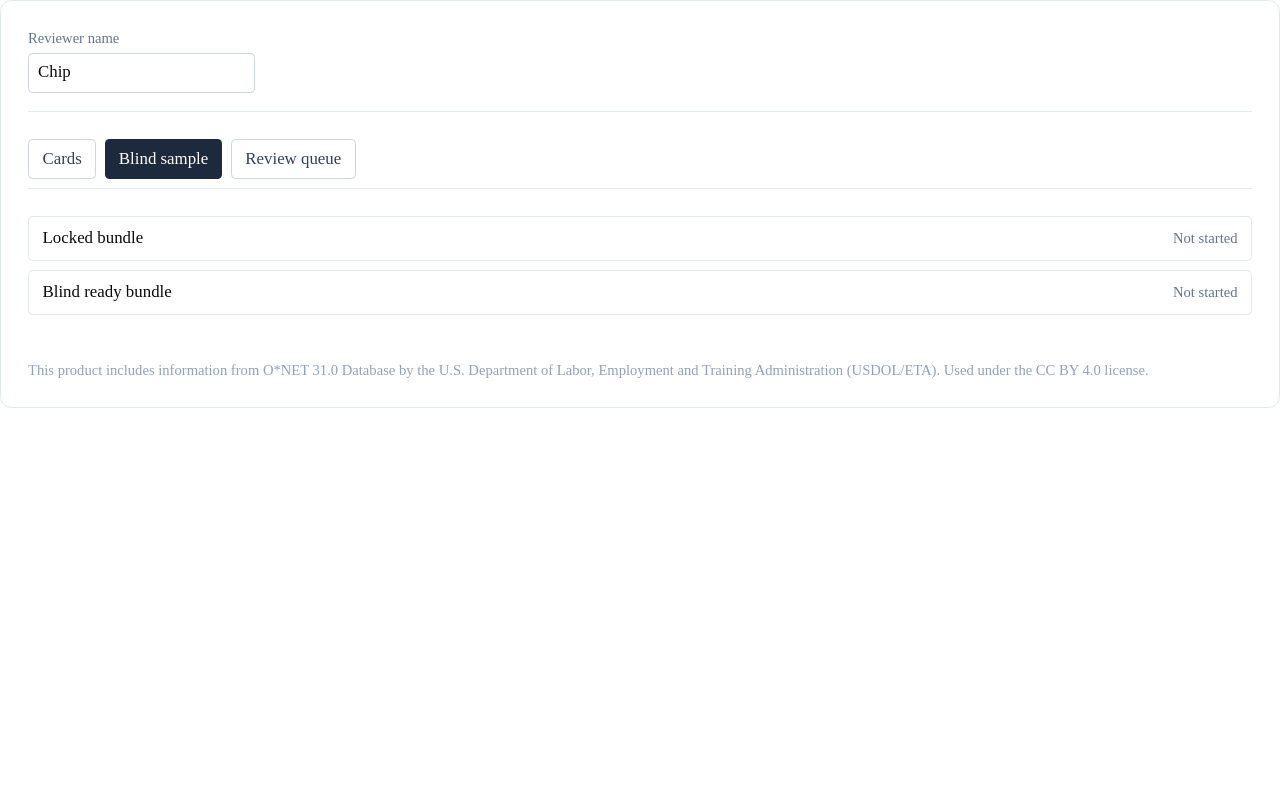
BundlesPanel › a blind-locked bundle in the queue cannot be opened and shows "Blind pick first"
The image size is (1280, 800).
Expected: the button "Locked bundle" is shown, [42,226,143,251]
Click the button "Review queue".
click(293, 159)  # box [231,139,356,179]
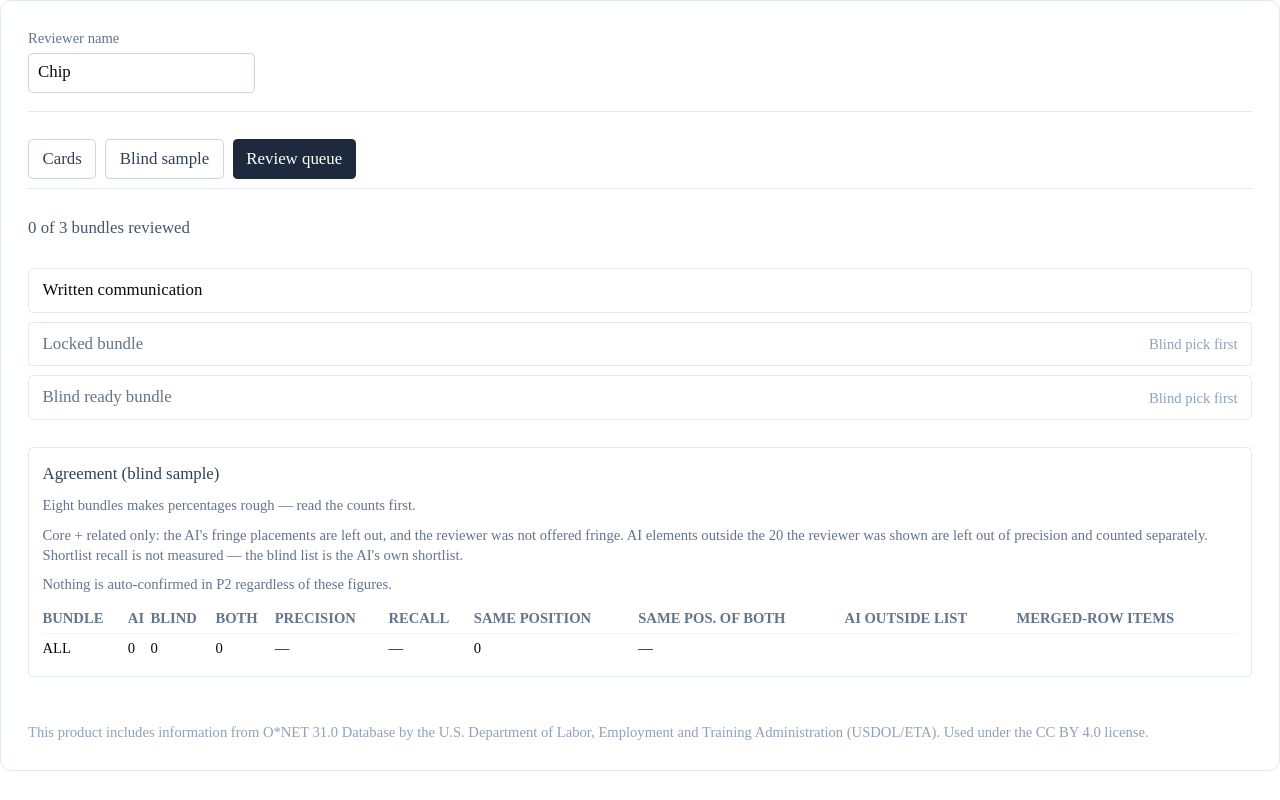
Expected: the text "Blind pick first" in the row of "Locked bundle" is shown, [1149,336,1238,352]
